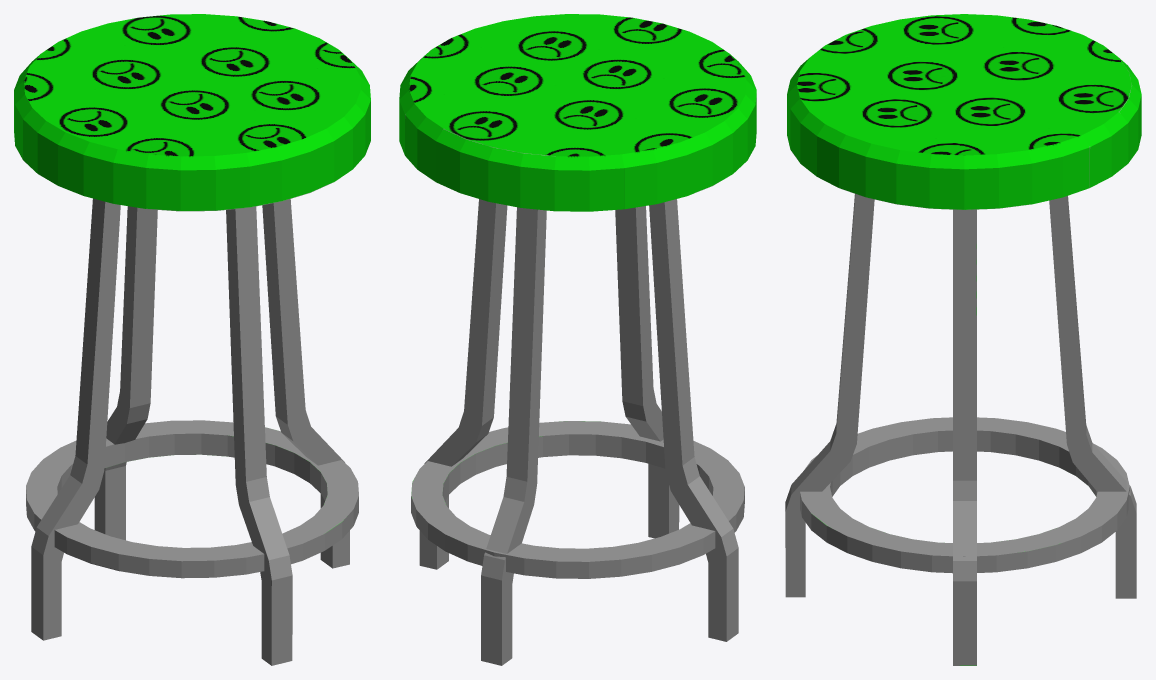
Rendered from seat-stool.fbx.
The picture shows the model from 3 angles, left to right: view 1: azimuth 30°, elevation 25°; view 2: azimuth 150°, elevation 25°; view 3: azimuth 270°, elevation 25°; orthographic projection.
Visible parts, largest first — view 1: Cube.001; view 2: Cube.001; view 3: Cube.001.
Part boxes in pixels (x1=…): Cube.001: x1=14, y1=14, x2=370, y2=665; Cube.001: x1=399, y1=14, x2=756, y2=665; Cube.001: x1=785, y1=14, x2=1141, y2=665.
Size of the model in its own units: 34.69 by 54.94 by 34.85.
